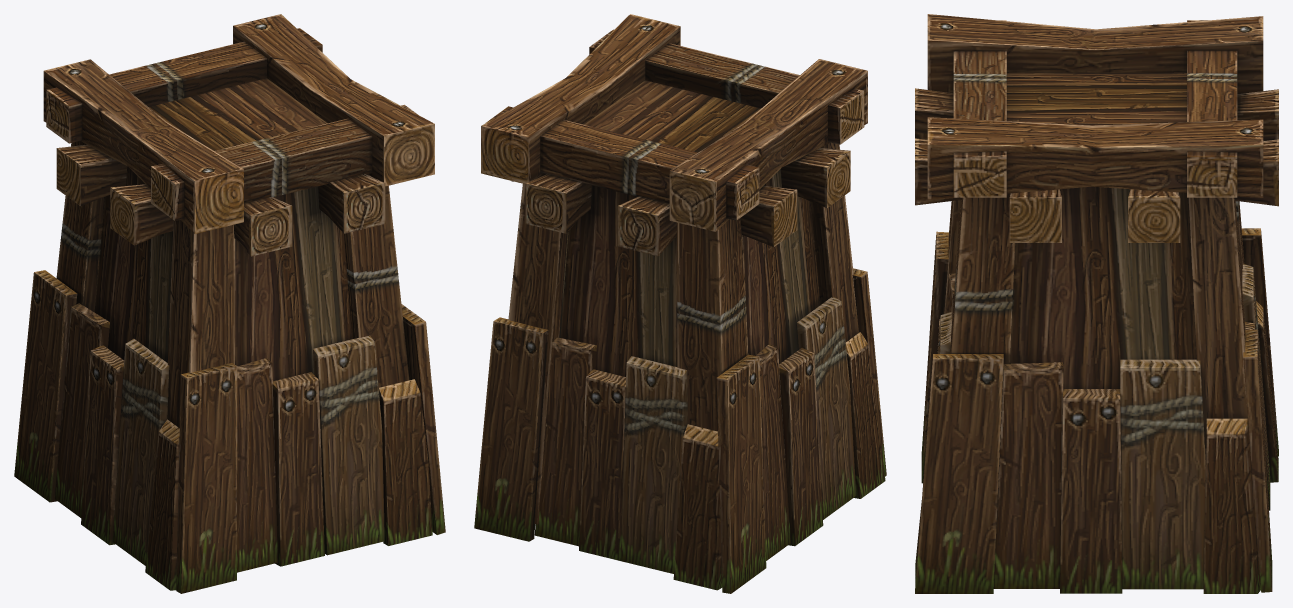
The model's file is Tower_Base1_1.fbx.
The picture shows the model from 3 angles, left to right: view 1: azimuth 30°, elevation 25°; view 2: azimuth 150°, elevation 25°; view 3: azimuth 270°, elevation 25°; orthographic projection. The views are drawn at different scales.
Visible parts, largest first — view 1: tower1; view 2: tower1; view 3: tower1.
Part boxes in pixels (<box>): tower1: <box>14,14,445,593</box>; tower1: <box>474,14,886,593</box>; tower1: <box>915,14,1278,593</box>.
Size of the model in its own units: 1.98 by 2.89 by 2.12.
Materials: 1 (1 with a texture image).
